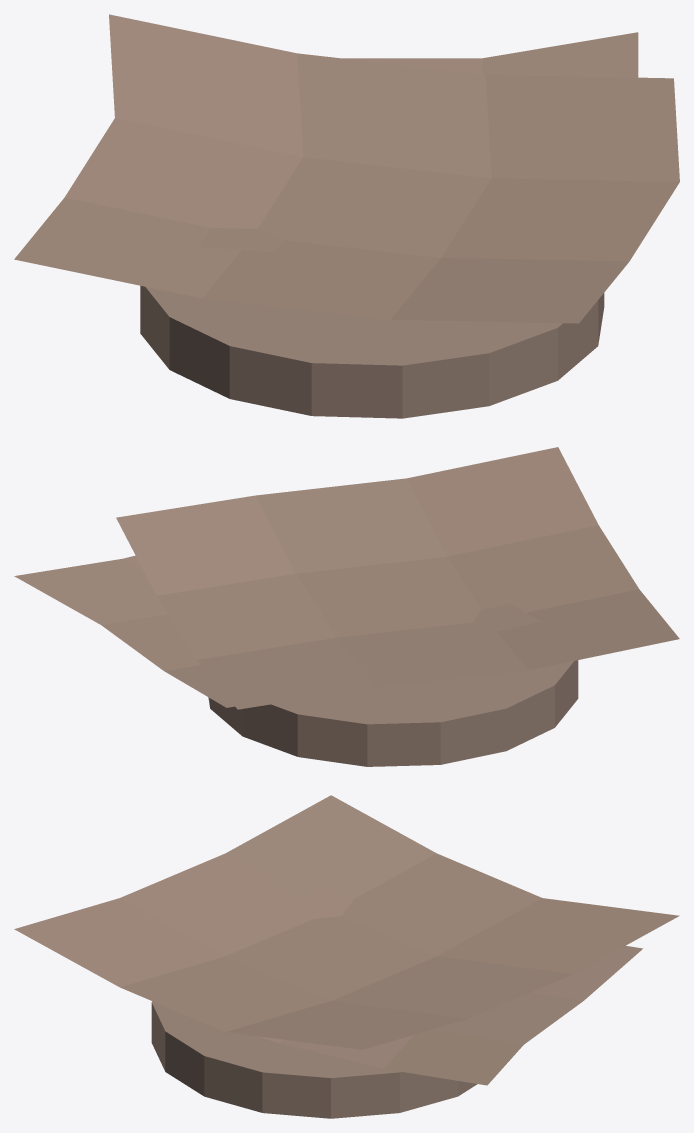
File: seedstage_maple.glb
3 views of the same model, one above another, from view 1: azimuth 30°, elevation 25°; view 2: azimuth 150°, elevation 25°; view 3: azimuth 270°, elevation 25° (orthographic). The views are drawn at different scales.
Visible parts, largest first — view 1: MapleSeed_Body.002, MapleSeed_Base, MapleSeed_Body2; view 2: MapleSeed_Body.002, MapleSeed_Base, MapleSeed_Body2; view 3: MapleSeed_Body.002, MapleSeed_Base, MapleSeed_Body2.
Boxes of the visible parts, <box> form: MapleSeed_Body.002: <box>14,14,679,323</box>; MapleSeed_Base: <box>140,285,604,418</box>; MapleSeed_Body2: <box>199,32,638,252</box>; MapleSeed_Body.002: <box>116,447,679,709</box>; MapleSeed_Base: <box>208,660,578,766</box>; MapleSeed_Body2: <box>14,555,540,707</box>; MapleSeed_Body.002: <box>14,795,679,1049</box>; MapleSeed_Base: <box>151,1001,477,1118</box>; MapleSeed_Body2: <box>258,882,642,1085</box>.
Size of the model in its own units: 1.43 by 0.28 by 1.48.
